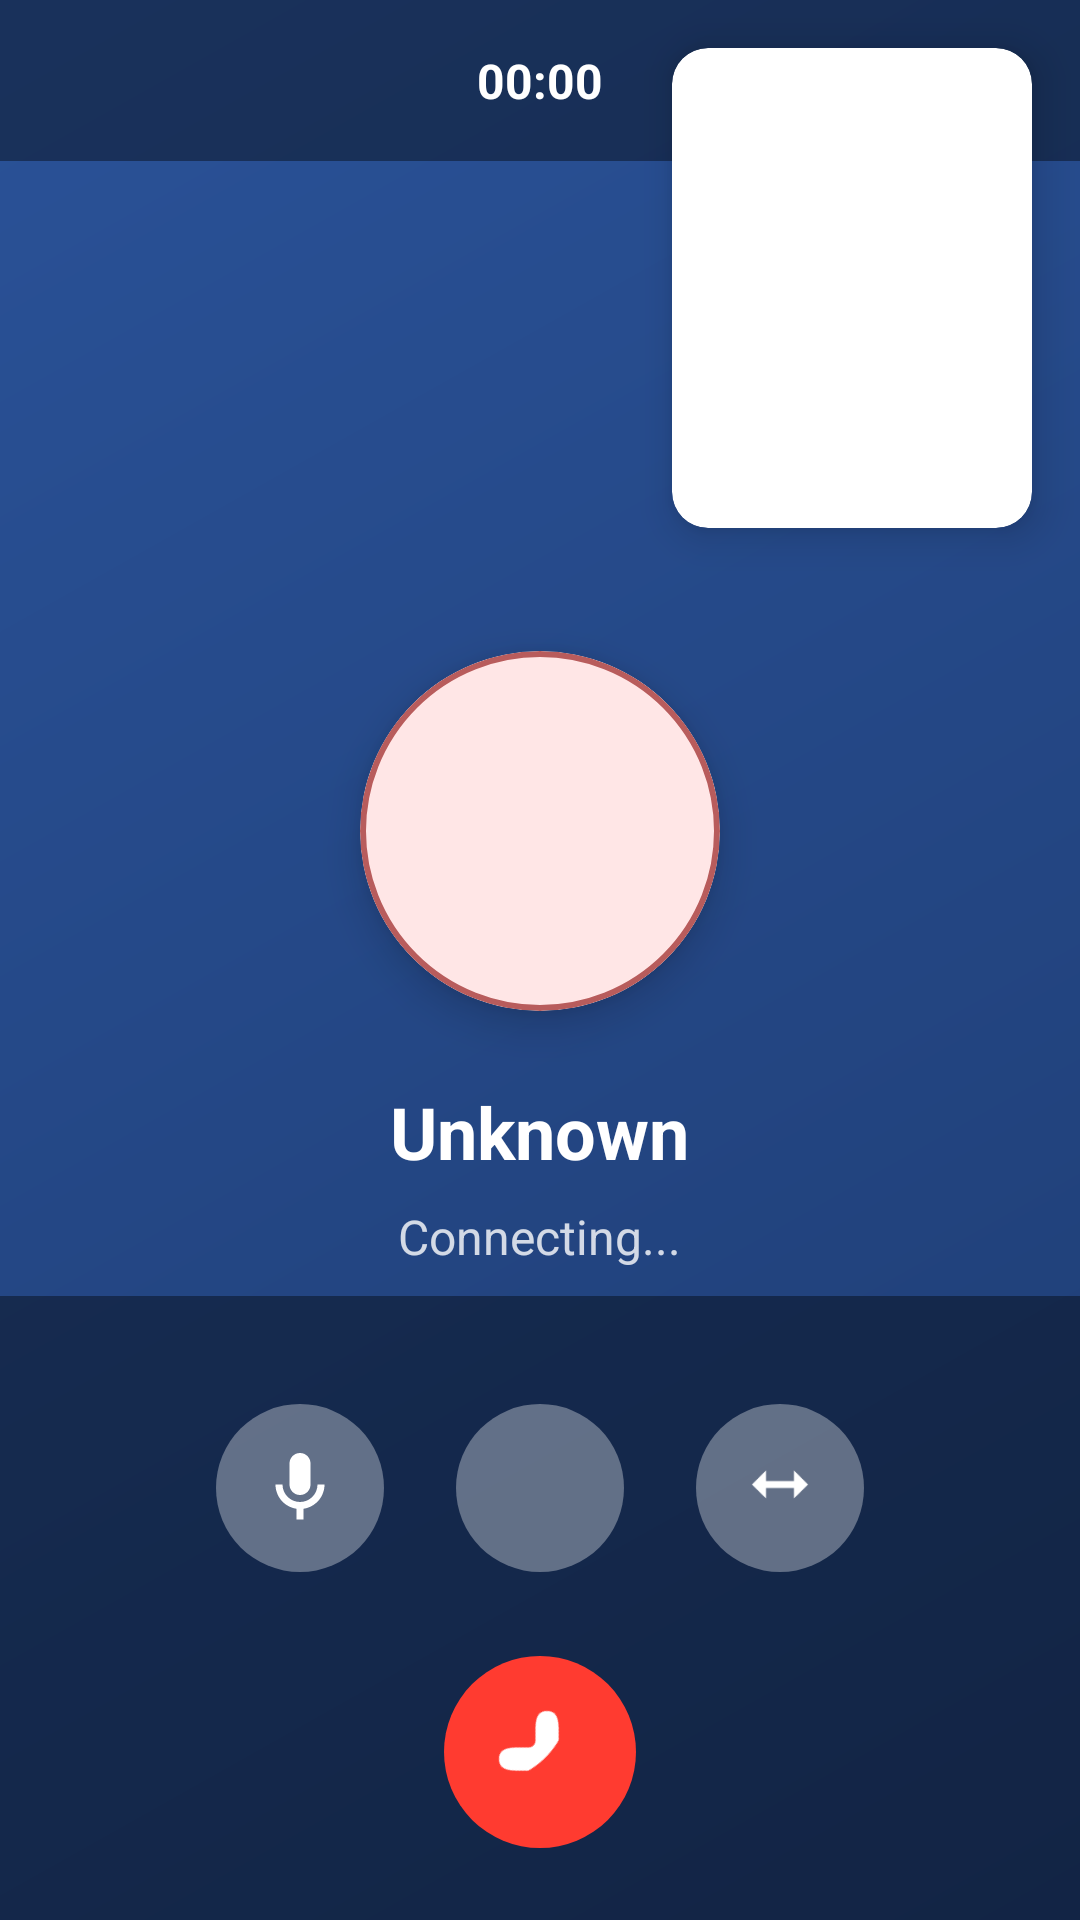

Named icons in this screenshot (1080*1920) and their centers, [x,y]:
mic: [300,1486]
